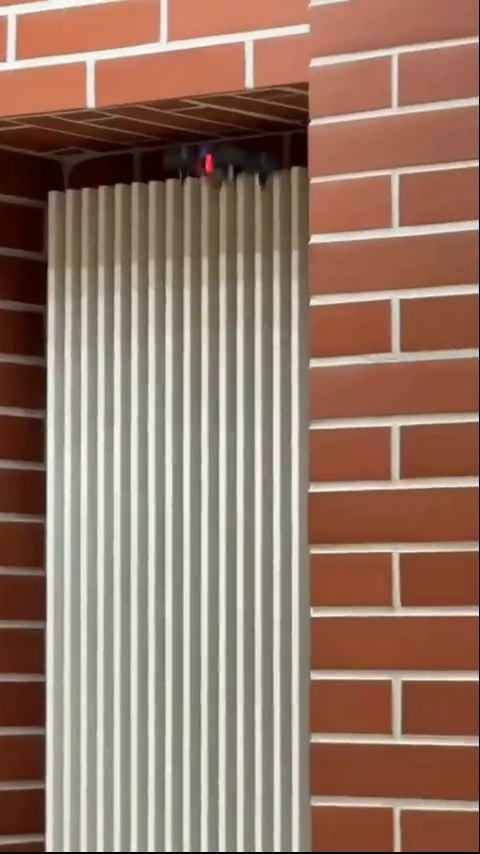drone: (163, 135, 277, 190)
